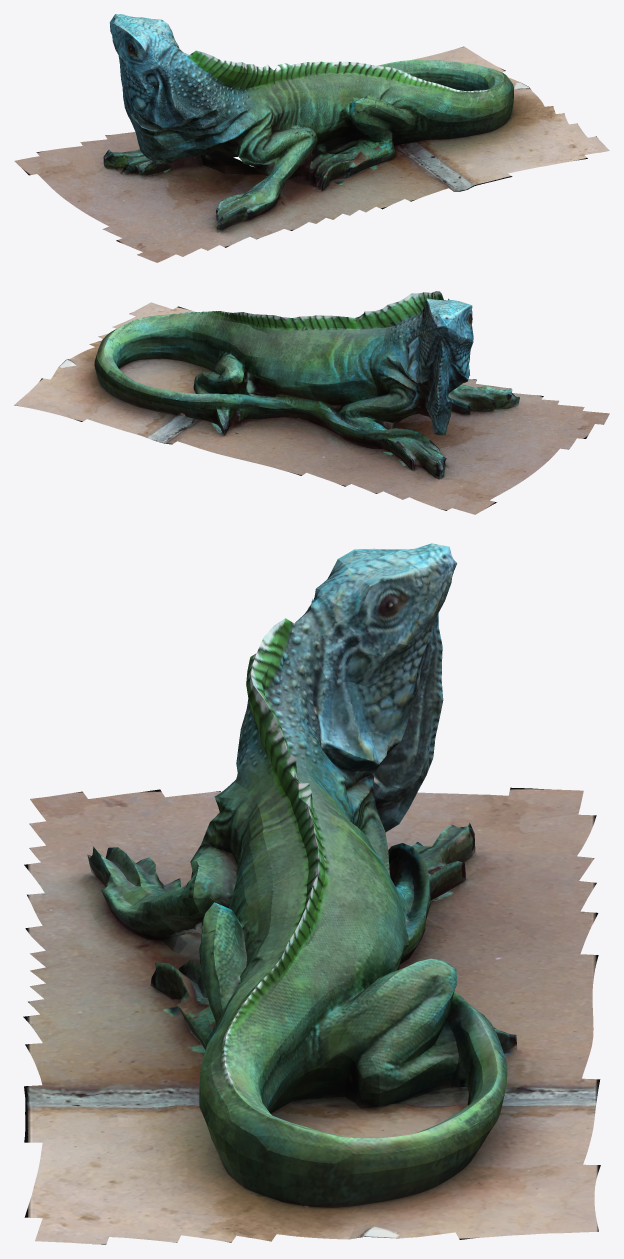
Rendered from realistic_resin_iguana_photogrammetry.glb.
3 views of the same model, one above another, from view 1: azimuth 30°, elevation 25°; view 2: azimuth 150°, elevation 25°; view 3: azimuth 270°, elevation 25° (orthographic). The views are drawn at different scales.
Parts seen in each view (by area): view 1: Object_2; view 2: Object_2; view 3: Object_2.
Part boxes in pixels (x1=…): Object_2: x1=14, y1=14, x2=609, y2=262; Object_2: x1=14, y1=291, x2=609, y2=514; Object_2: x1=23, y1=543, x2=600, y2=1244.
Bounding box in the file's own units: 6.47 × 2.11 × 3.47.
Materials: 1 (1 with a texture image).
